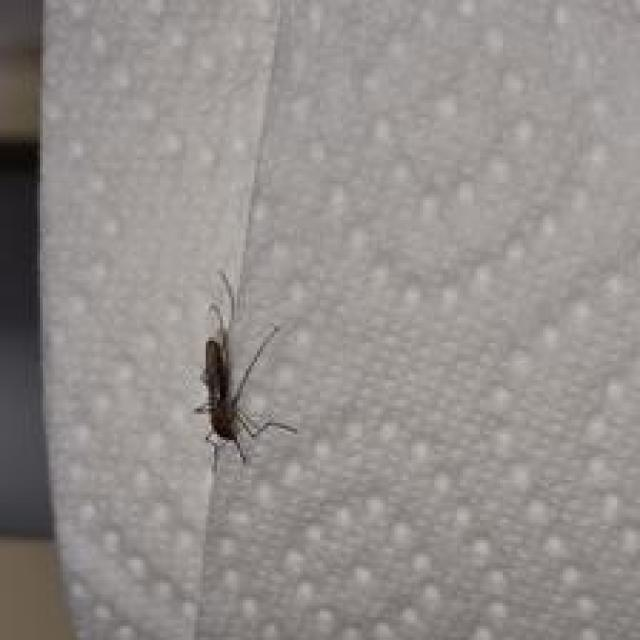Culex: (192, 274, 297, 472)
